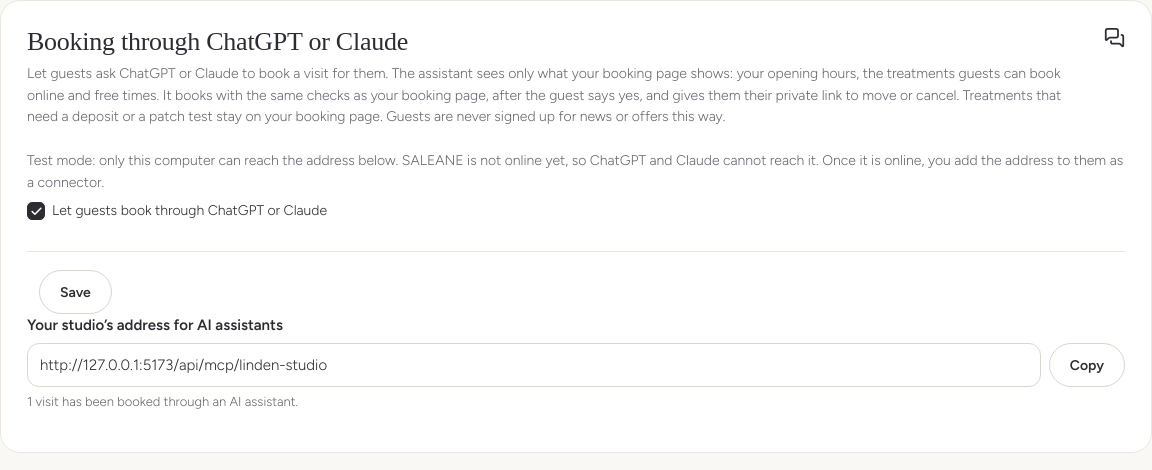
shows the address to copy and the visits booked through an assistant
This screenshot has width=1152, height=470.
Check: the field labelled "Your studio’s address for AI assistants" holds "http://127.0.0.1:5173/api/mcp/linden-studio", box [27,343,1041,387]
Check: the text "1 visit has been booked through an AI assistant." is shown, box [27,394,298,409]
Click the button "Copy": (1087, 365) [1049,343,1125,387]
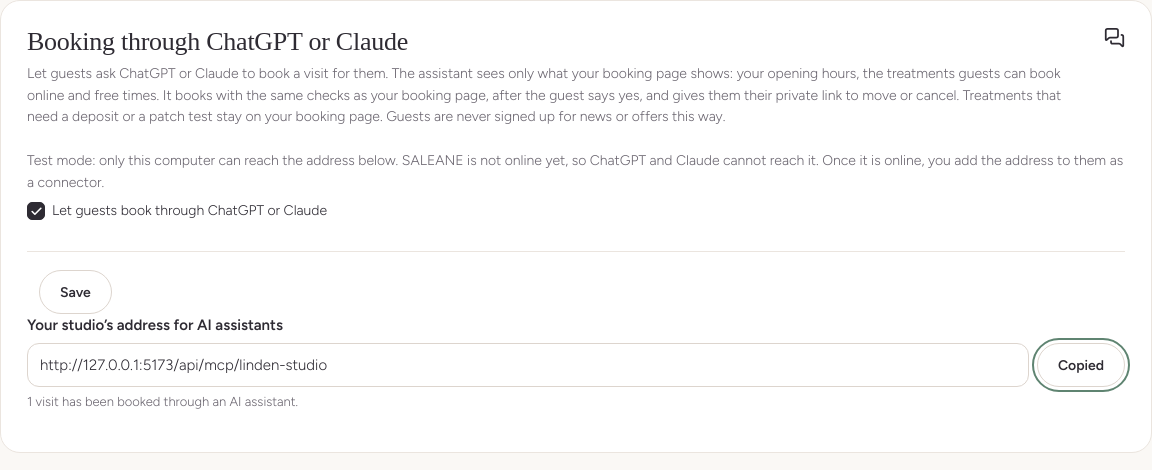
Check: the button "Copied" is shown, box [1037,343,1125,387]
